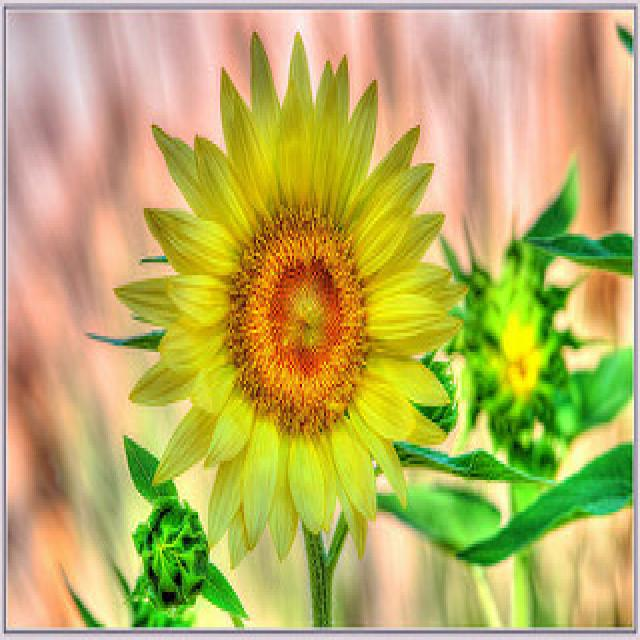sunflower: (108, 22, 472, 576)
